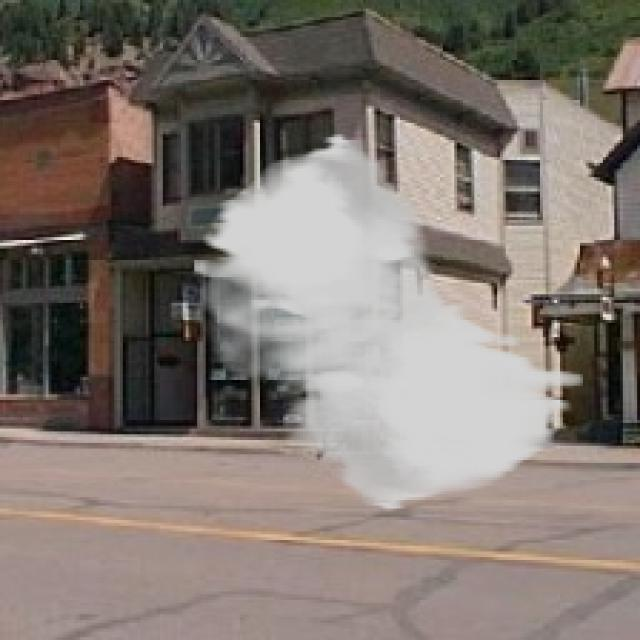smoke: (191, 132, 583, 512)
